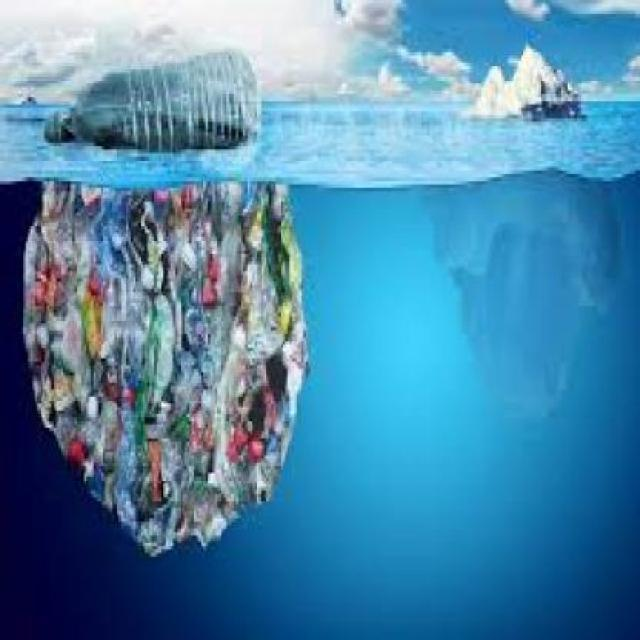garbage: (0, 173, 312, 552), (37, 45, 266, 156)
